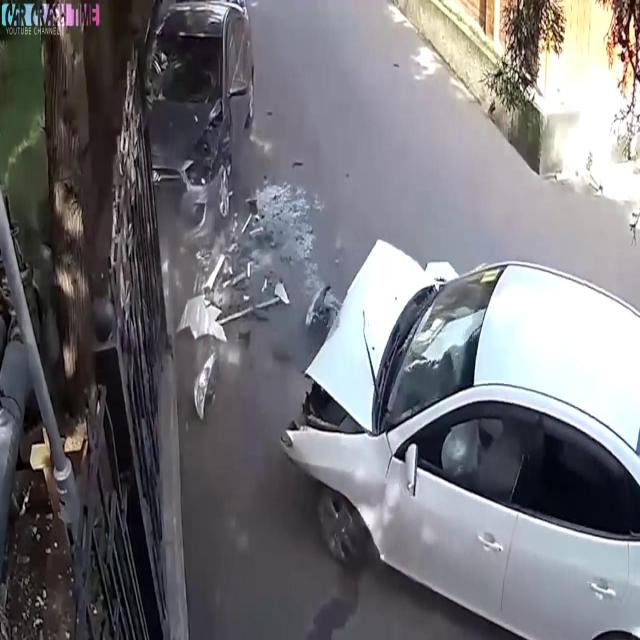accident: (266, 216, 640, 640), (135, 0, 266, 427)
